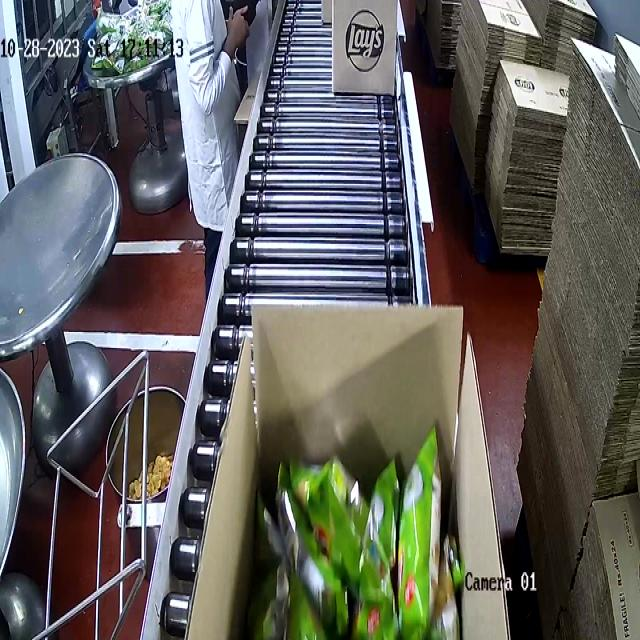YOGURT_HERB: (255, 441, 460, 640)
